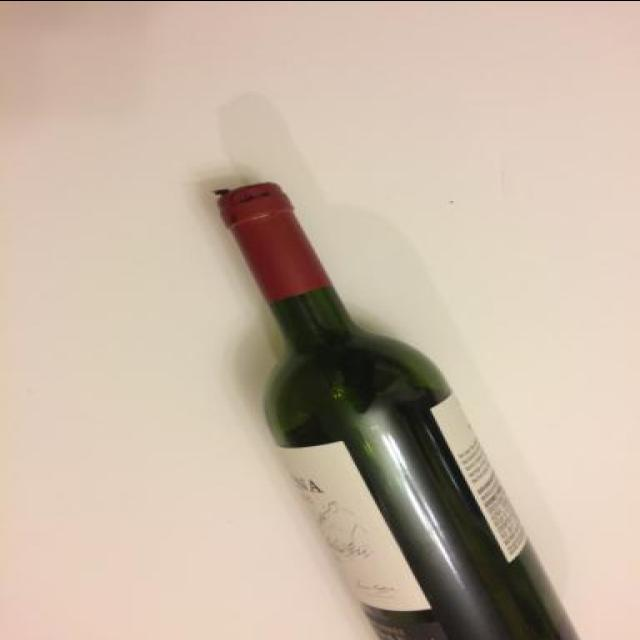Glass Bottle: (216, 179, 582, 639)
